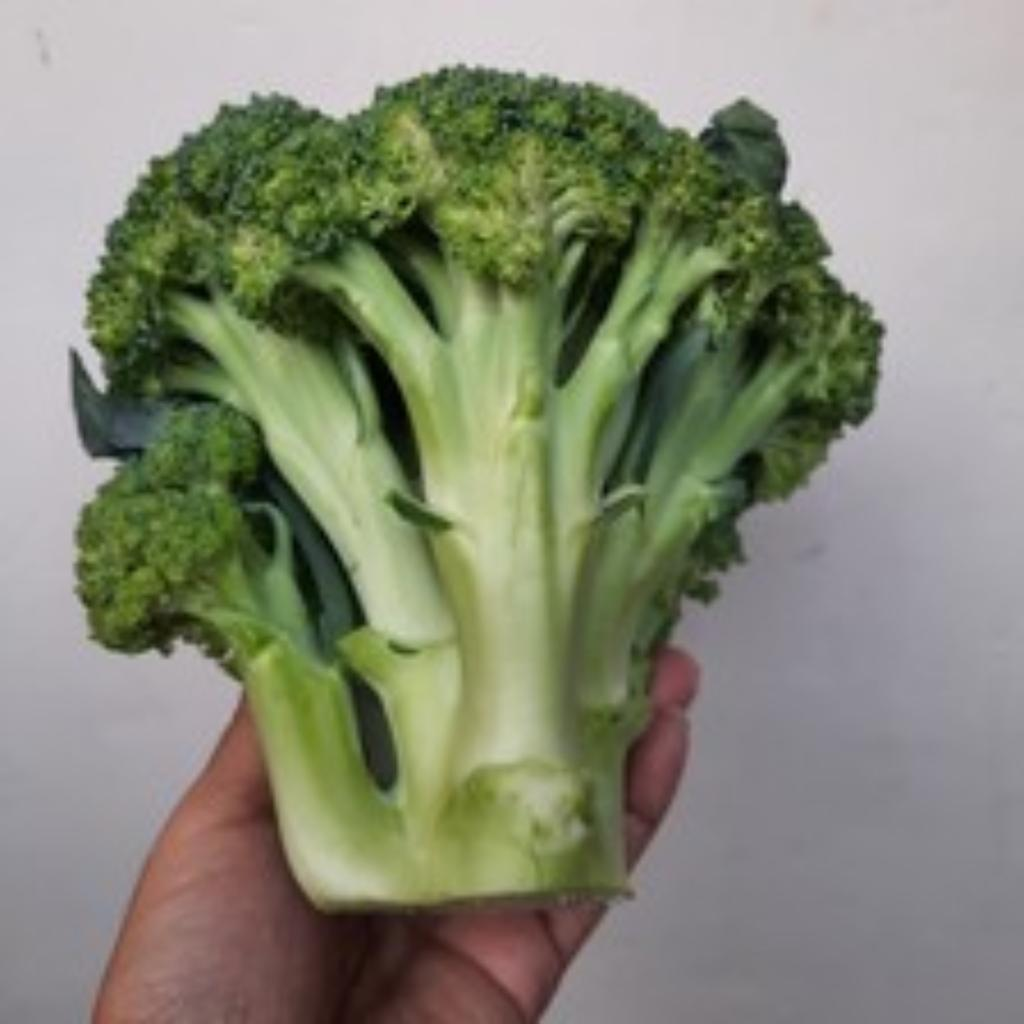Broccoli: (88, 66, 882, 591), (92, 66, 882, 503), (78, 398, 272, 657), (78, 398, 270, 657)
